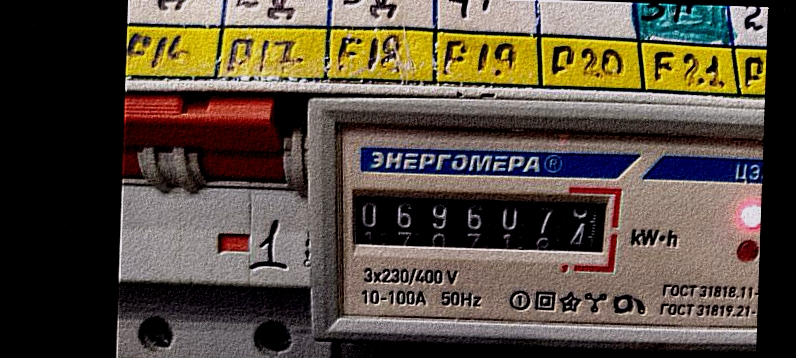0: (359, 199, 381, 230), (501, 203, 521, 233)
4: (567, 220, 587, 250)
6: (465, 202, 486, 234), (395, 201, 415, 230)
7: (536, 203, 555, 235)
9: (430, 202, 451, 231)
screen: (339, 173, 625, 274)
